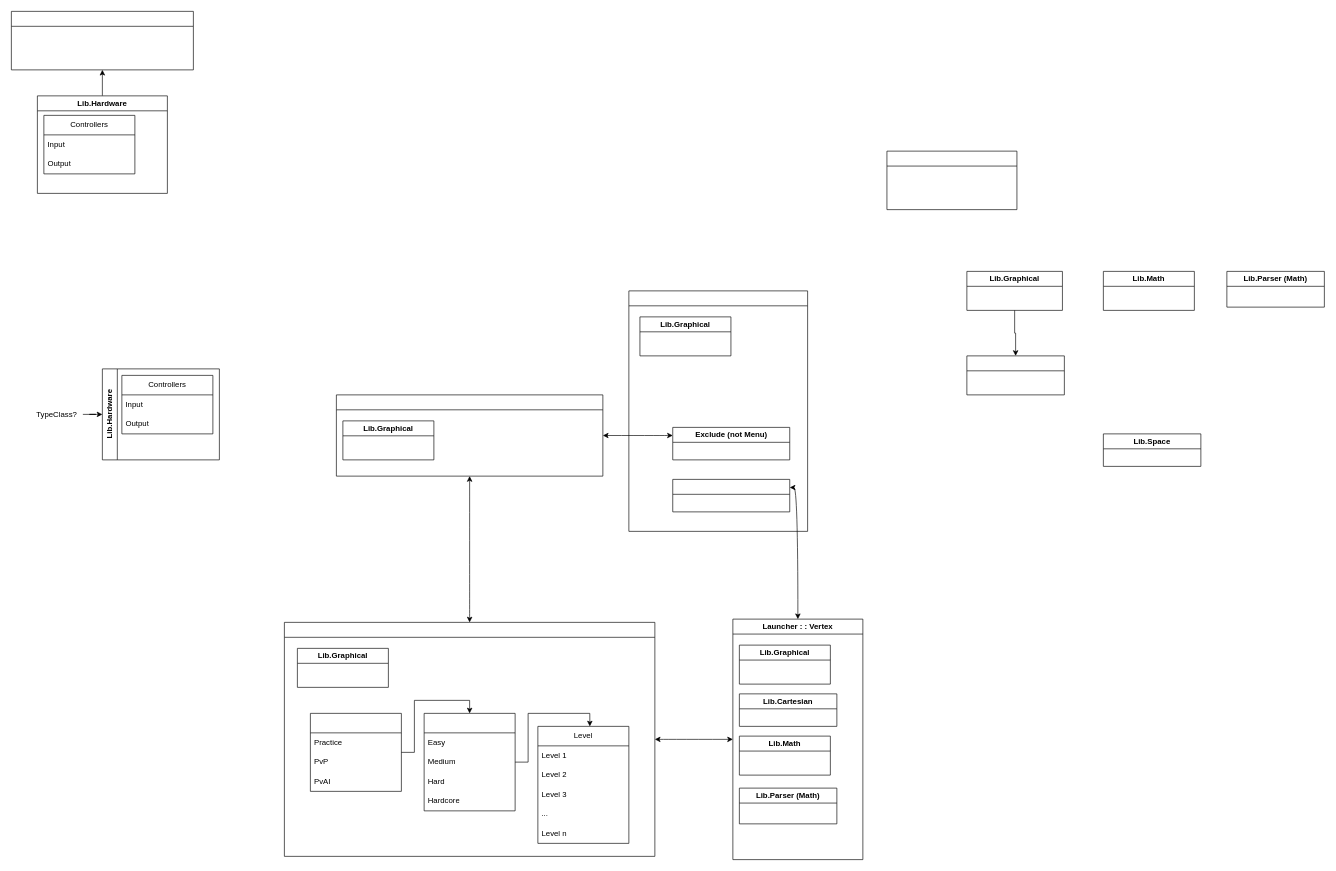
The diagram is 1336 pixels wide and 871 high, and some of its shapes have lost their labels. Here are the shapes that lost their labels. From the top down, the box of each, then its label:
(11, 11, 193, 70): Main
(886, 150, 1017, 210): Game Maker
(966, 355, 1064, 395): Lib.Interface
(628, 290, 808, 531): Configuration : : Vertex
(336, 394, 603, 476): Game (Menu) : : Vertex
(672, 479, 790, 512): Exclude (not Launcher)
(310, 713, 401, 791): Mode
(284, 622, 655, 856): Play : : Vertex
(423, 713, 515, 811): Dificulty
